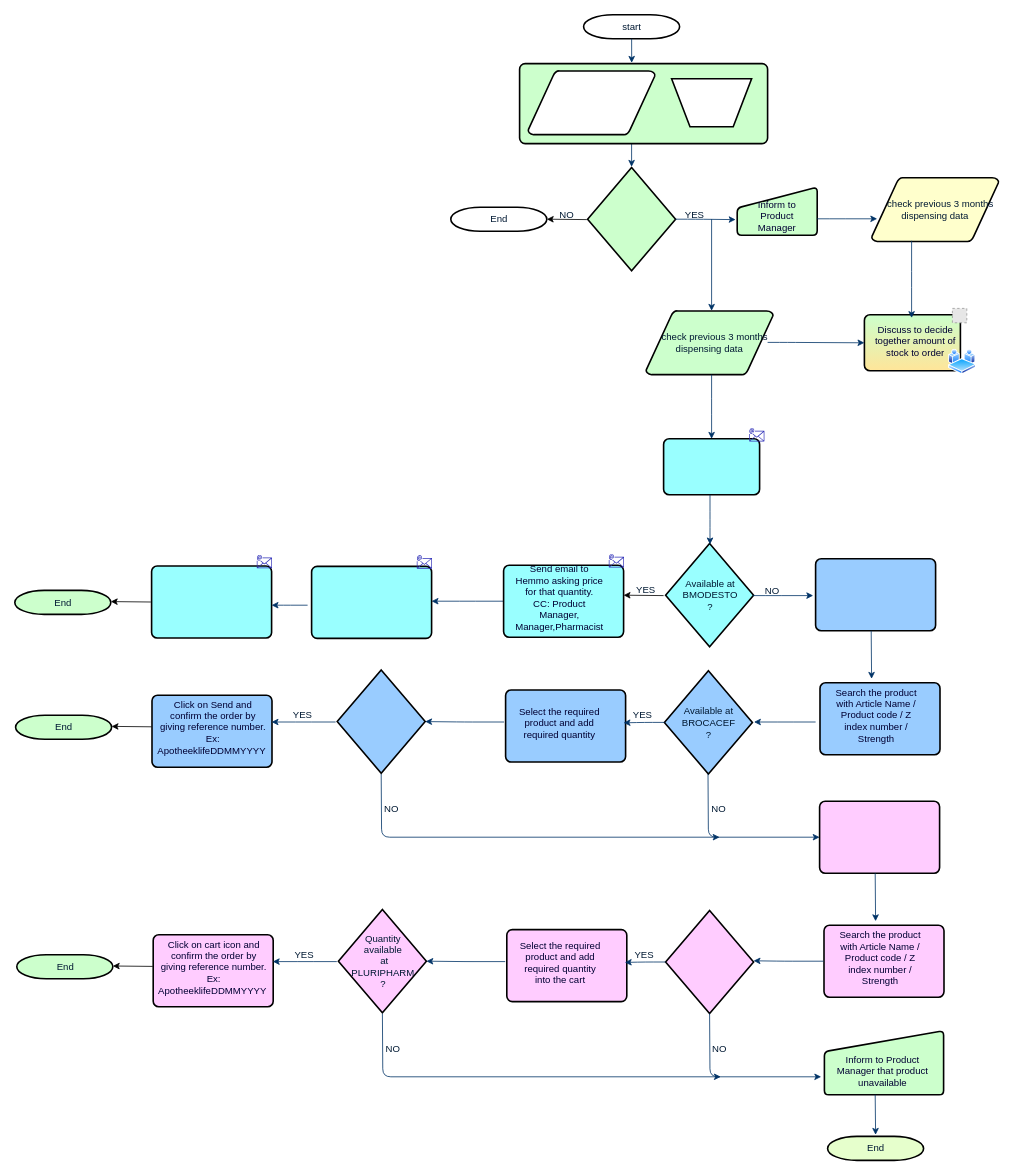
The diagram is 1013 pixels wide and 1174 high, and some of its shapes have lost their labels. Grey dashed boxes stand in for pictures. The shapes that lost their labels are listed below. From the top down, each one's centre as x and y in pixels, then its label:
(x=591, y=102): Check stock in system
(x=711, y=102): Check Physically
(x=631, y=218): product low in stock ?
(x=711, y=466): Send email to Hemmo to check if product(s) available from BMODESTO
(x=211, y=601): Order acknowledged and invoice sent by BMODESTO to info email id
(x=371, y=602): Approval given by Product manager
(x=875, y=594): Login to BROCACEF & Click on Brokis
(x=381, y=721): Quantity available at BROCACEF ?
(x=879, y=837): Login to PLURIPHARM & Click on Assortment
(x=709, y=961): Available at PLURIPHARM ?
